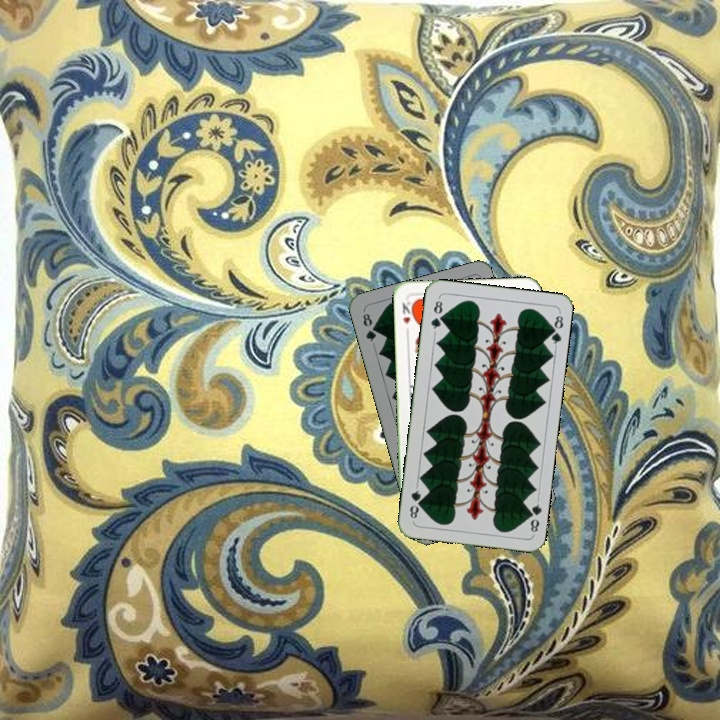G8: (523, 496, 544, 537), (427, 294, 445, 335), (358, 309, 379, 344)
HK: (398, 298, 417, 336)
